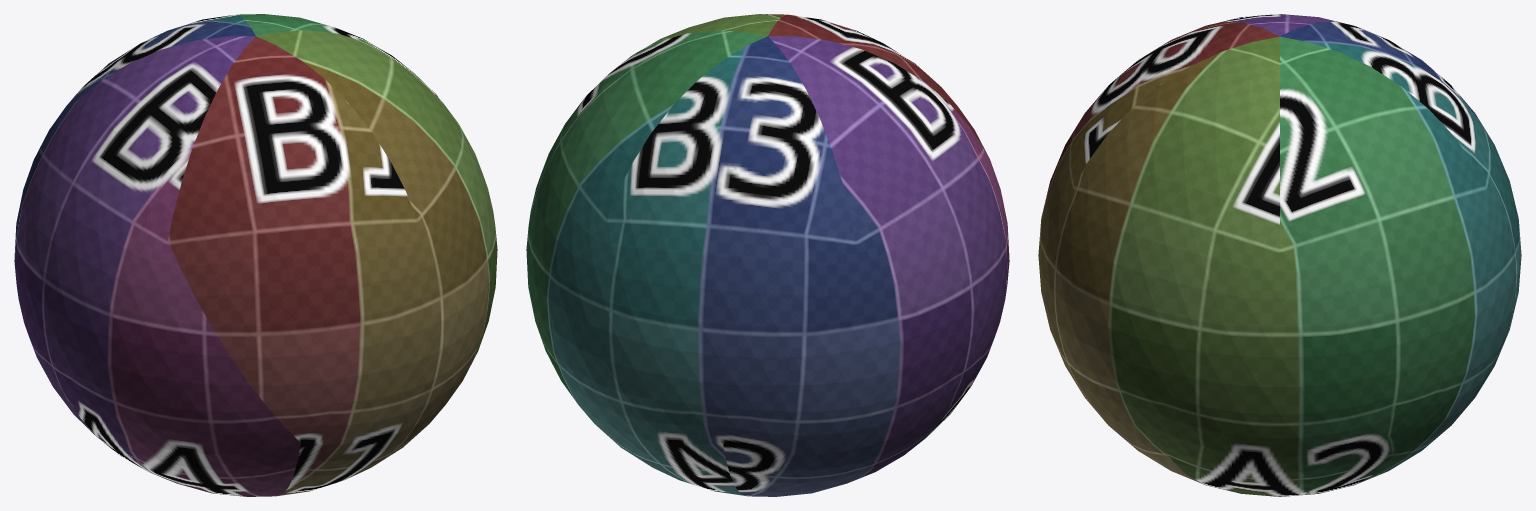
3 renders of one model, left to right at view 1: azimuth 30°, elevation 25°; view 2: azimuth 150°, elevation 25°; view 3: azimuth 270°, elevation 25°, orthographic.
Visible parts, largest first — view 1: Suzanne; view 2: Suzanne; view 3: Suzanne.
Part boxes in pixels (left/top/right/bottom): Suzanne: left=14, top=14, right=497, bottom=496; Suzanne: left=526, top=14, right=1009, bottom=496; Suzanne: left=1038, top=14, right=1521, bottom=496.
Size of the model in its own units: 20 by 20 by 20.
1 material, 1 textured.
